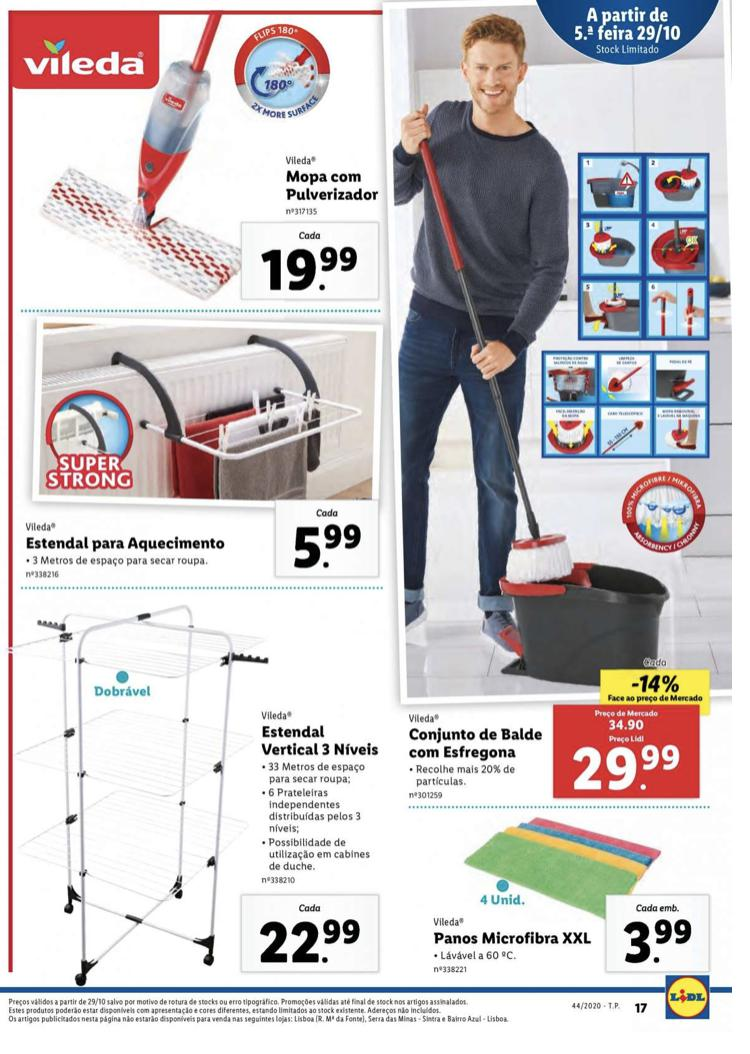name: (258, 723, 384, 763), (407, 726, 545, 762), (21, 532, 230, 555), (282, 165, 380, 201), (429, 931, 594, 949)
price: (258, 913, 360, 971), (260, 244, 360, 298), (289, 515, 375, 570), (621, 920, 695, 965)
product: (402, 13, 706, 794), (19, 601, 394, 974), (19, 328, 385, 585), (30, 97, 388, 305), (420, 811, 724, 979)
promotion: (626, 672, 685, 696)
